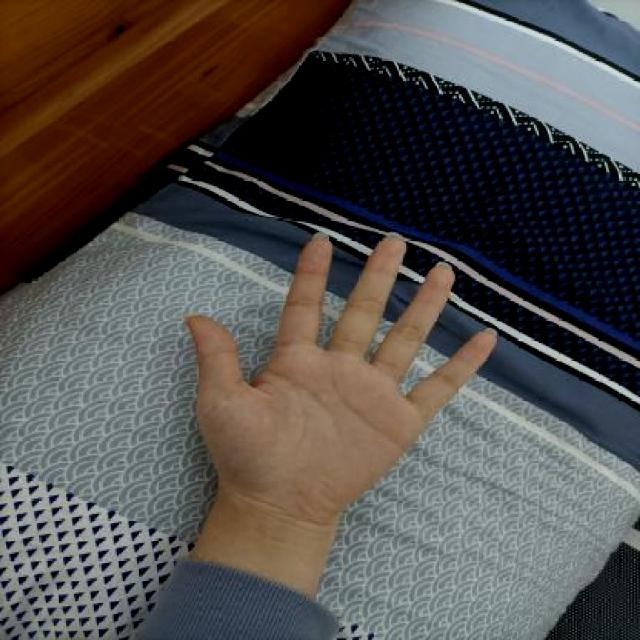no_glove: (165, 208, 522, 520)
